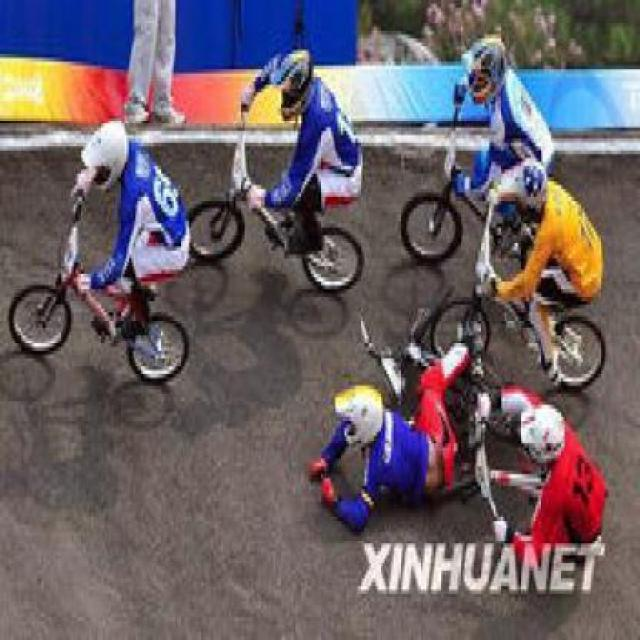fall: (302, 320, 469, 525)
